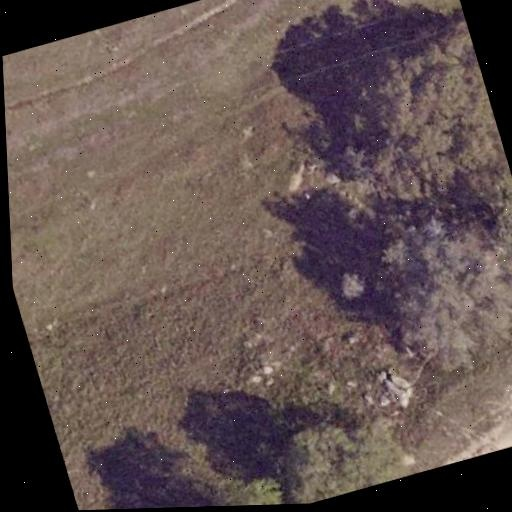tree-top: (332, 13, 512, 215), (367, 200, 512, 374), (262, 388, 413, 505), (205, 457, 296, 507)
